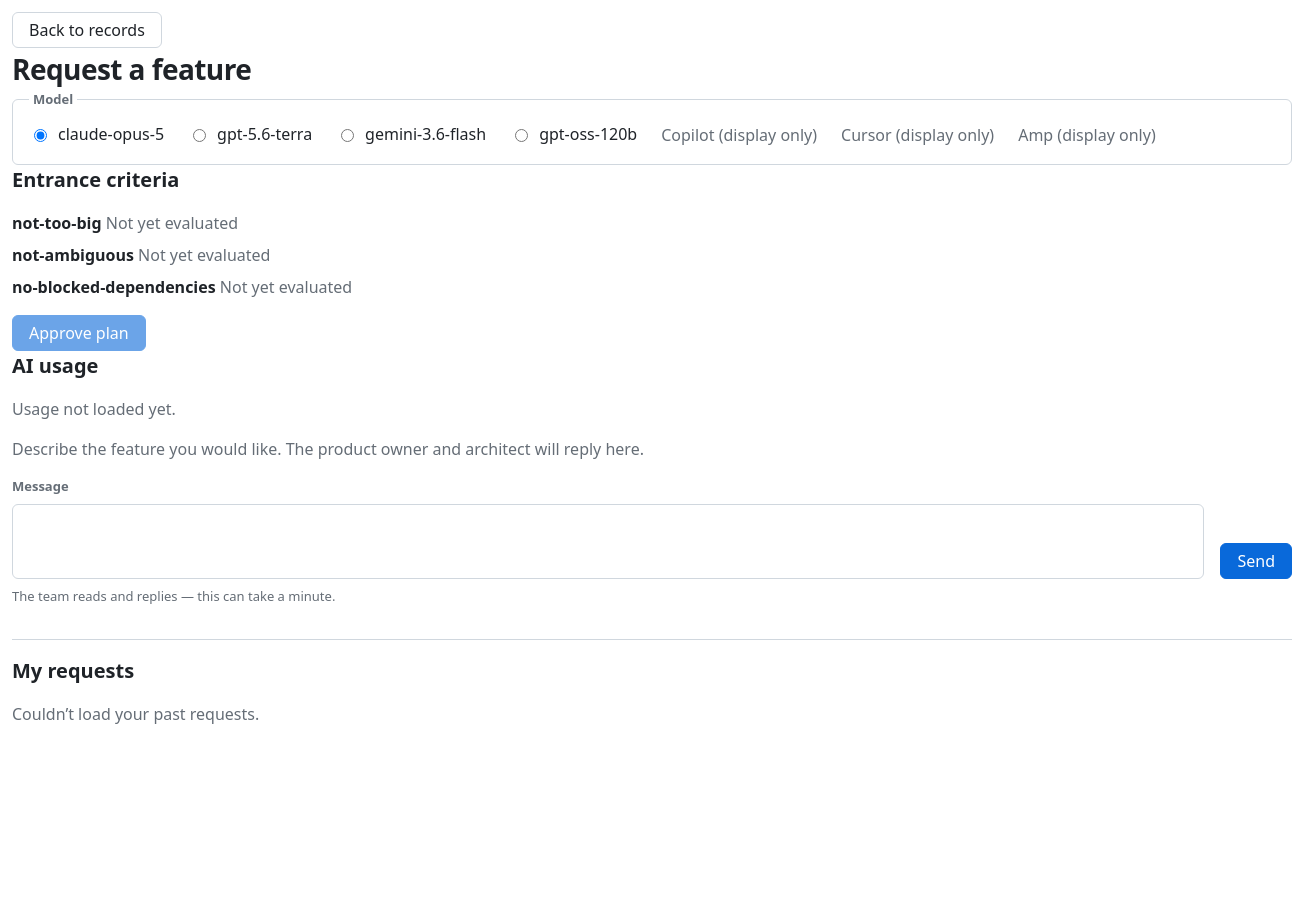
DAN-54 entrance-criteria checklist › shows pass/fail state and the reason text from entranceCriteria after an exchange
In the text box labelled "Message": (608, 542) top-left (12, 504), bottom-right (1204, 579), type "Please add CSV export"
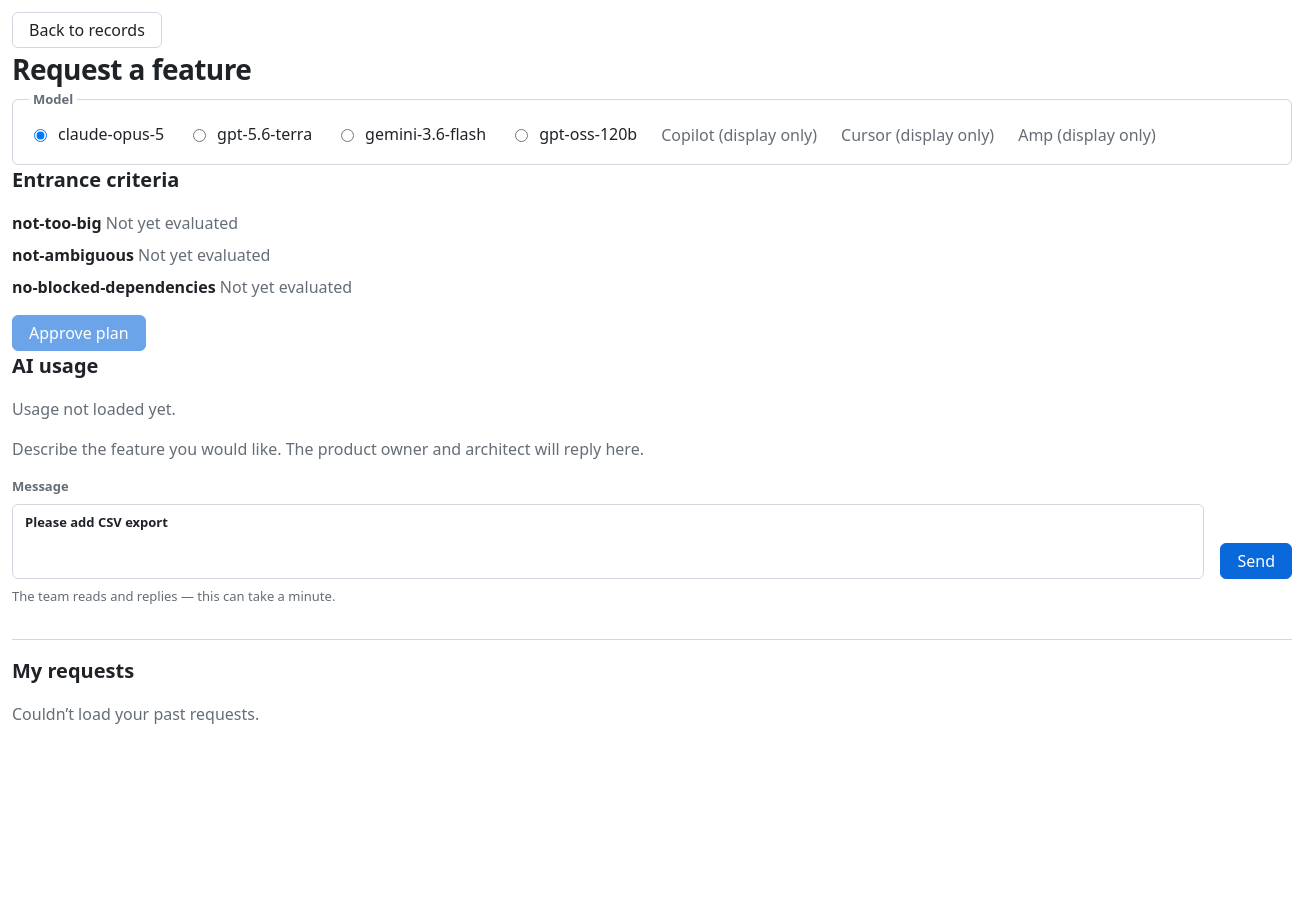
Click the button "Send": (1256, 561) top-left (1220, 543), bottom-right (1292, 579)
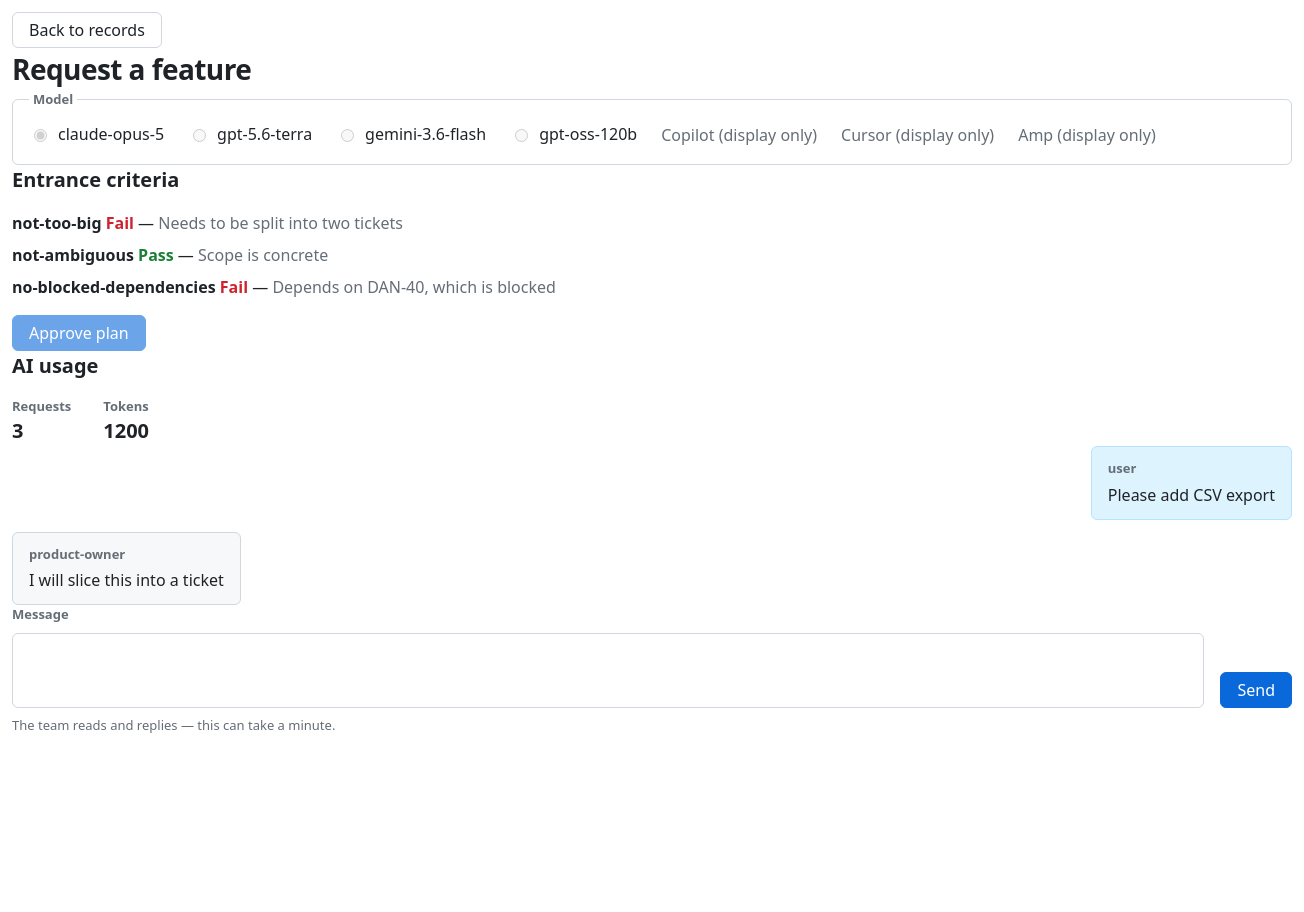
Expected: the list named "Conversation" is shown, top-left (12, 446), bottom-right (1292, 605)
Expected: the list item that starts with "no-blocked-dependencies" shows "Fail", top-left (220, 276), bottom-right (248, 298)
Expected: the list item that starts with "no-blocked-dependencies" shows "Depends on DAN-40, which is blocked", top-left (272, 276), bottom-right (556, 298)
